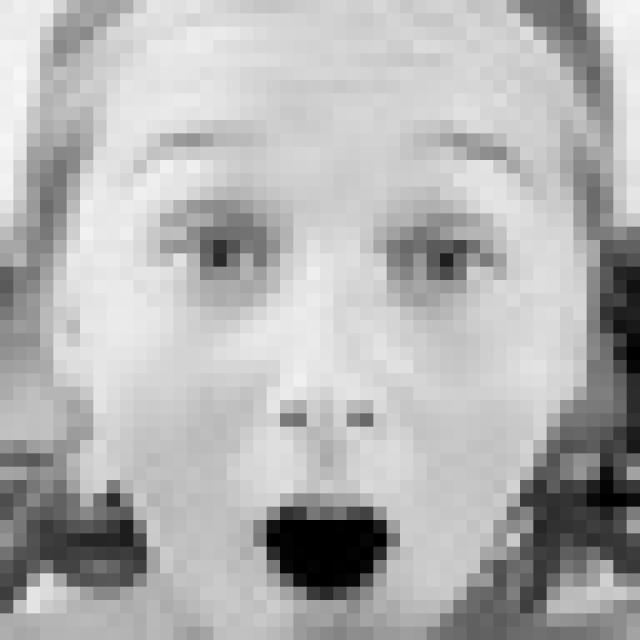surprise: (116, 116, 541, 618)
